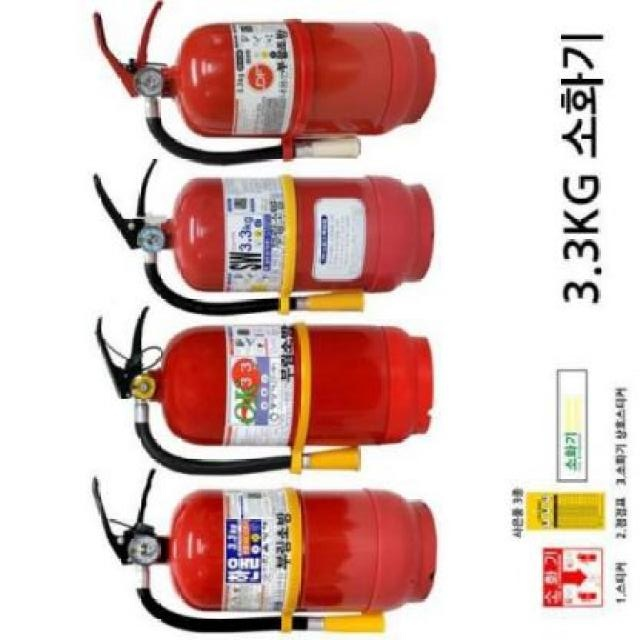fire extinguisher: (95, 305, 434, 478), (92, 0, 437, 168), (91, 469, 437, 634), (91, 159, 434, 318)
